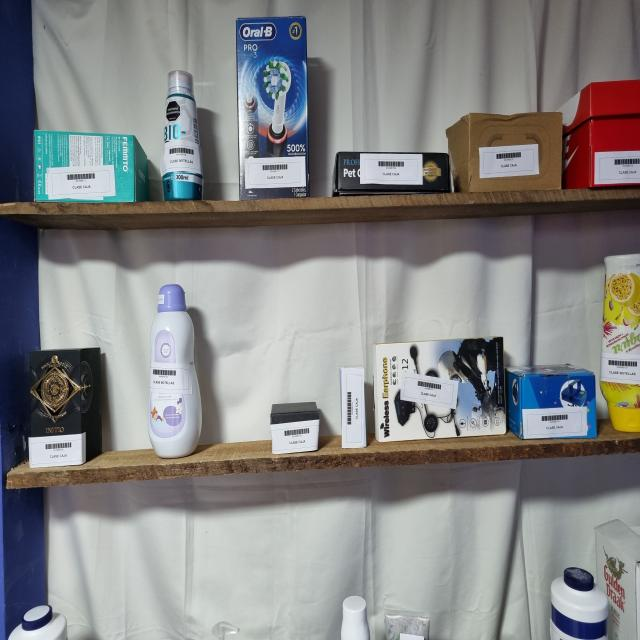botella: (148, 284, 201, 458), (600, 254, 640, 432), (160, 71, 203, 201), (550, 567, 608, 640), (8, 605, 67, 640), (341, 595, 370, 640)
caja: (374, 337, 506, 441), (236, 16, 309, 200), (446, 112, 562, 192), (28, 348, 102, 467), (560, 80, 640, 189), (34, 130, 148, 202), (506, 365, 596, 439), (595, 519, 640, 640), (333, 152, 454, 196), (270, 401, 319, 454), (340, 367, 367, 448)
